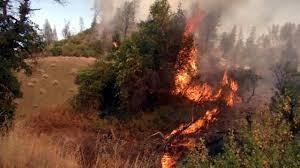fire: (170, 10, 242, 148)
